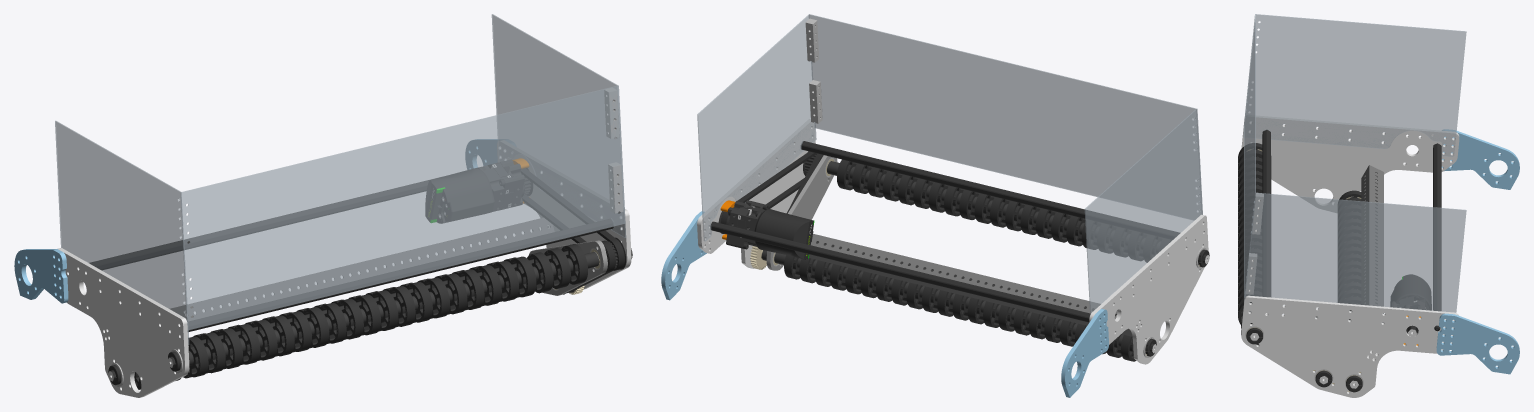
The picture shows the model from 3 angles, left to right: view 1: azimuth 30°, elevation 25°; view 2: azimuth 150°, elevation 25°; view 3: azimuth 270°, elevation 25°; orthographic projection. The views are drawn at different scales.
Visible parts, largest first — view 1: middle hopper plate, side hopper plate (×2), 2" Flex Wheel (30A, 1/2" Wide, 1/2" Hex Bore) (×23), Intake (×2), 1/2" Rounded Hex (25.375" L, 13.75mm OD) (×2), Tube 1"x1"x25.375", Sprocket to Intake (×2), Kraken X60 Brushless Motor, 120T 5M 9mm Wide Belt, Nut Strip (1/2" Square ,2.5" , #8-32 Tapped, Alternating .5" (×2), Part 7, MAXPlanetary Output Slice; view 2: middle hopper plate, side hopper plate (×2), Intake (×2), 1/2" Rounded Hex (25.375" L, 13.75mm OD) (×2), Tube 1"x1"x25.375", Sprocket to Intake (×2), Kraken X60 Brushless Motor, Part 7, Nut Strip (1/2" Square ,2.5" , #8-32 Tapped, Alternating .5" (×2), 120T 5M 9mm Wide Belt; view 3: side hopper plate (×2), Intake (×2), Sprocket to Intake (×2), Tube 1"x1"x25.375", 1/2" Rounded Hex (25.375" L, 13.75mm OD) (×2), middle hopper plate, Kraken X60 Brushless Motor, Nut Strip (1/2" Square ,2.5" , #8-32 Tapped, Alternating .5" (×2).
Part boxes in pixels (x1,y1,x2,y2): middle hopper plate: (180,85,625,330); side hopper plate (×2): (55,14,626,344); 2" Flex Wheel (30A, 1/2" Wide, 1/2" Hex Bore) (×23): (188,244,587,377); Intake (×2): (57,141,631,397); 1/2" Rounded Hex (25.375" L, 13.75mm OD) (×2): (89,180,614,331); Tube 1"x1"x25.375": (170,218,554,320); Sprocket to Intake (×2): (14,139,497,303); Kraken X60 Brushless Motor: (425,168,494,223); 120T 5M 9mm Wide Belt: (521,168,624,270); Nut Strip (1/2" Square ,2.5" , #8-32 Tapped, Alternating .5" (×2): (604,88,623,213); Part 7: (529,240,607,295); MAXPlanetary Output Slice: (500,159,524,207); middle hopper plate: (809,14,1202,220); side hopper plate (×2): (697,15,1202,314); Intake (×2): (697,119,1208,364); 1/2" Rounded Hex (25.375" L, 13.75mm OD) (×2): (710,141,1179,322); Tube 1"x1"x25.375": (809,233,1132,336); Sprocket to Intake (×2): (661,211,1108,397); Kraken X60 Brushless Motor: (754,209,814,259); Part 7: (766,155,837,270); Nut Strip (1/2" Square ,2.5" , #8-32 Tapped, Alternating .5" (×2): (805,18,822,123); 120T 5M 9mm Wide Belt: (721,151,815,234); side hopper plate (×2): (1243,14,1466,322); Intake (×2): (1241,115,1459,397); Sprocket to Intake (×2): (1436,129,1519,374); Tube 1"x1"x25.375": (1361,165,1383,322); 1/2" Rounded Hex (25.375" L, 13.75mm OD) (×2): (1262,129,1441,314); middle hopper plate: (1244,14,1255,301); Kraken X60 Brushless Motor: (1390,274,1431,310); Nut Strip (1/2" Square ,2.5" , #8-32 Tapped, Alternating .5" (×2): (1245,193,1263,294).
Size of the model in its own units: 0.6747 by 0.3411 by 0.4287.
